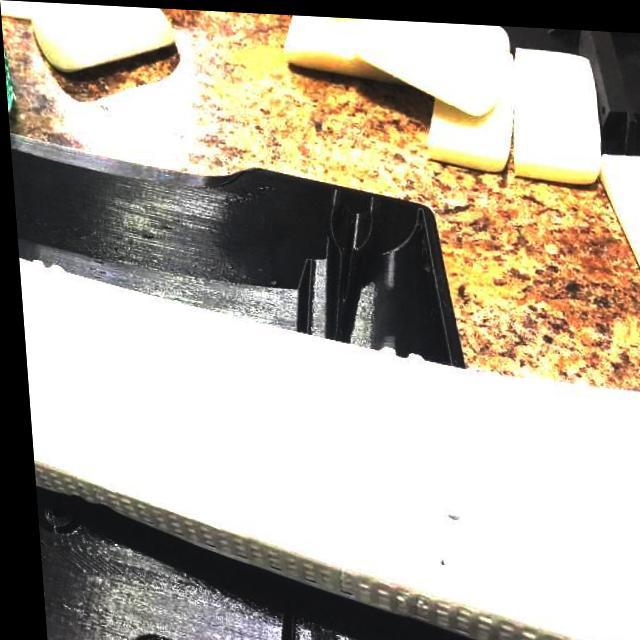zits: (462, 433, 484, 448), (491, 463, 508, 479), (209, 310, 228, 323), (152, 336, 172, 348), (409, 470, 425, 485), (400, 477, 414, 493), (150, 304, 167, 316), (220, 338, 238, 349), (556, 444, 570, 458), (361, 473, 376, 486), (378, 497, 393, 510), (380, 469, 395, 481), (218, 354, 234, 364), (554, 488, 568, 499), (478, 448, 492, 459), (194, 362, 208, 373), (377, 484, 392, 494), (142, 321, 154, 333), (556, 479, 569, 490), (202, 332, 216, 342), (132, 340, 146, 350), (226, 362, 237, 374), (496, 478, 509, 488), (544, 447, 557, 457), (225, 330, 238, 340), (210, 363, 223, 373), (232, 316, 245, 324), (196, 350, 207, 358), (532, 489, 542, 497), (166, 320, 175, 328), (204, 344, 216, 350), (468, 481, 478, 488), (148, 348, 156, 356), (140, 301, 148, 308)
